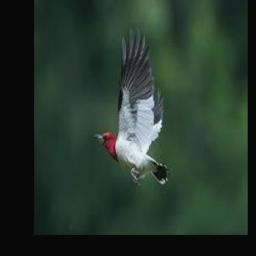Woodpecker: (94, 28, 172, 185)
